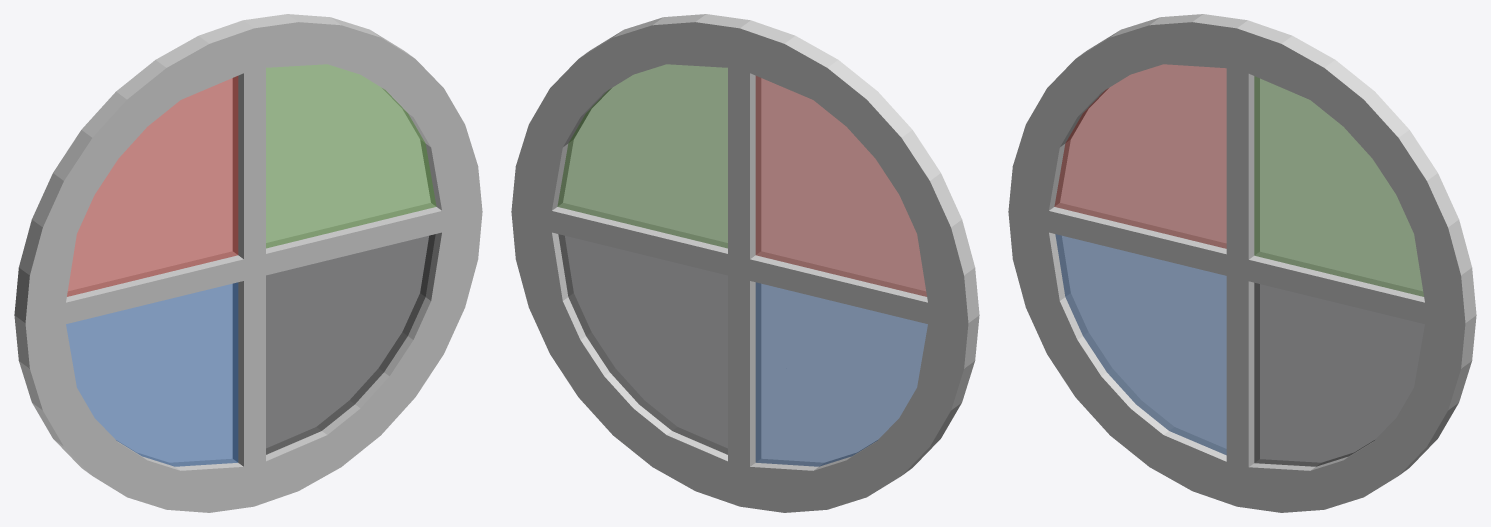
Rendered from vidriera.glb.
3 renders of one model, left to right at view 1: azimuth 30°, elevation 25°; view 2: azimuth 150°, elevation 25°; view 3: azimuth 330°, elevation 25°, orthographic.
Parts seen in each view (by area): view 1: frame, cristal_blue, cristal_green, cristal_red, cristal_black; view 2: frame, cristal_blue, cristal_green, cristal_red, cristal_black; view 3: frame, cristal_red, cristal_black, cristal_blue, cristal_green.
Part boxes in pixels (box(x1,y1,x2,y2)): frame: box(14, 14, 482, 512); cristal_blue: box(66, 282, 238, 466); cristal_green: box(266, 64, 436, 248); cristal_red: box(67, 76, 238, 296); cristal_black: box(266, 234, 435, 454); frame: box(511, 14, 979, 512); cristal_blue: box(755, 282, 927, 466); cristal_green: box(557, 64, 727, 248); cristal_red: box(755, 76, 926, 296); cristal_black: box(558, 234, 727, 454); frame: box(1008, 14, 1476, 512); cristal_red: box(1054, 64, 1226, 248); cristal_black: box(1254, 283, 1424, 466); cristal_blue: box(1055, 234, 1226, 454); cristal_green: box(1254, 76, 1423, 296).
Bounding box in the file's own units: 2 × 2 × 0.0841.
